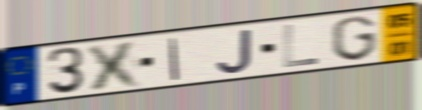3: (44, 46, 87, 96)
G: (330, 14, 380, 63)
I: (168, 36, 182, 82)
J: (215, 27, 254, 75)
L: (281, 23, 321, 69)
X: (84, 38, 146, 92)
